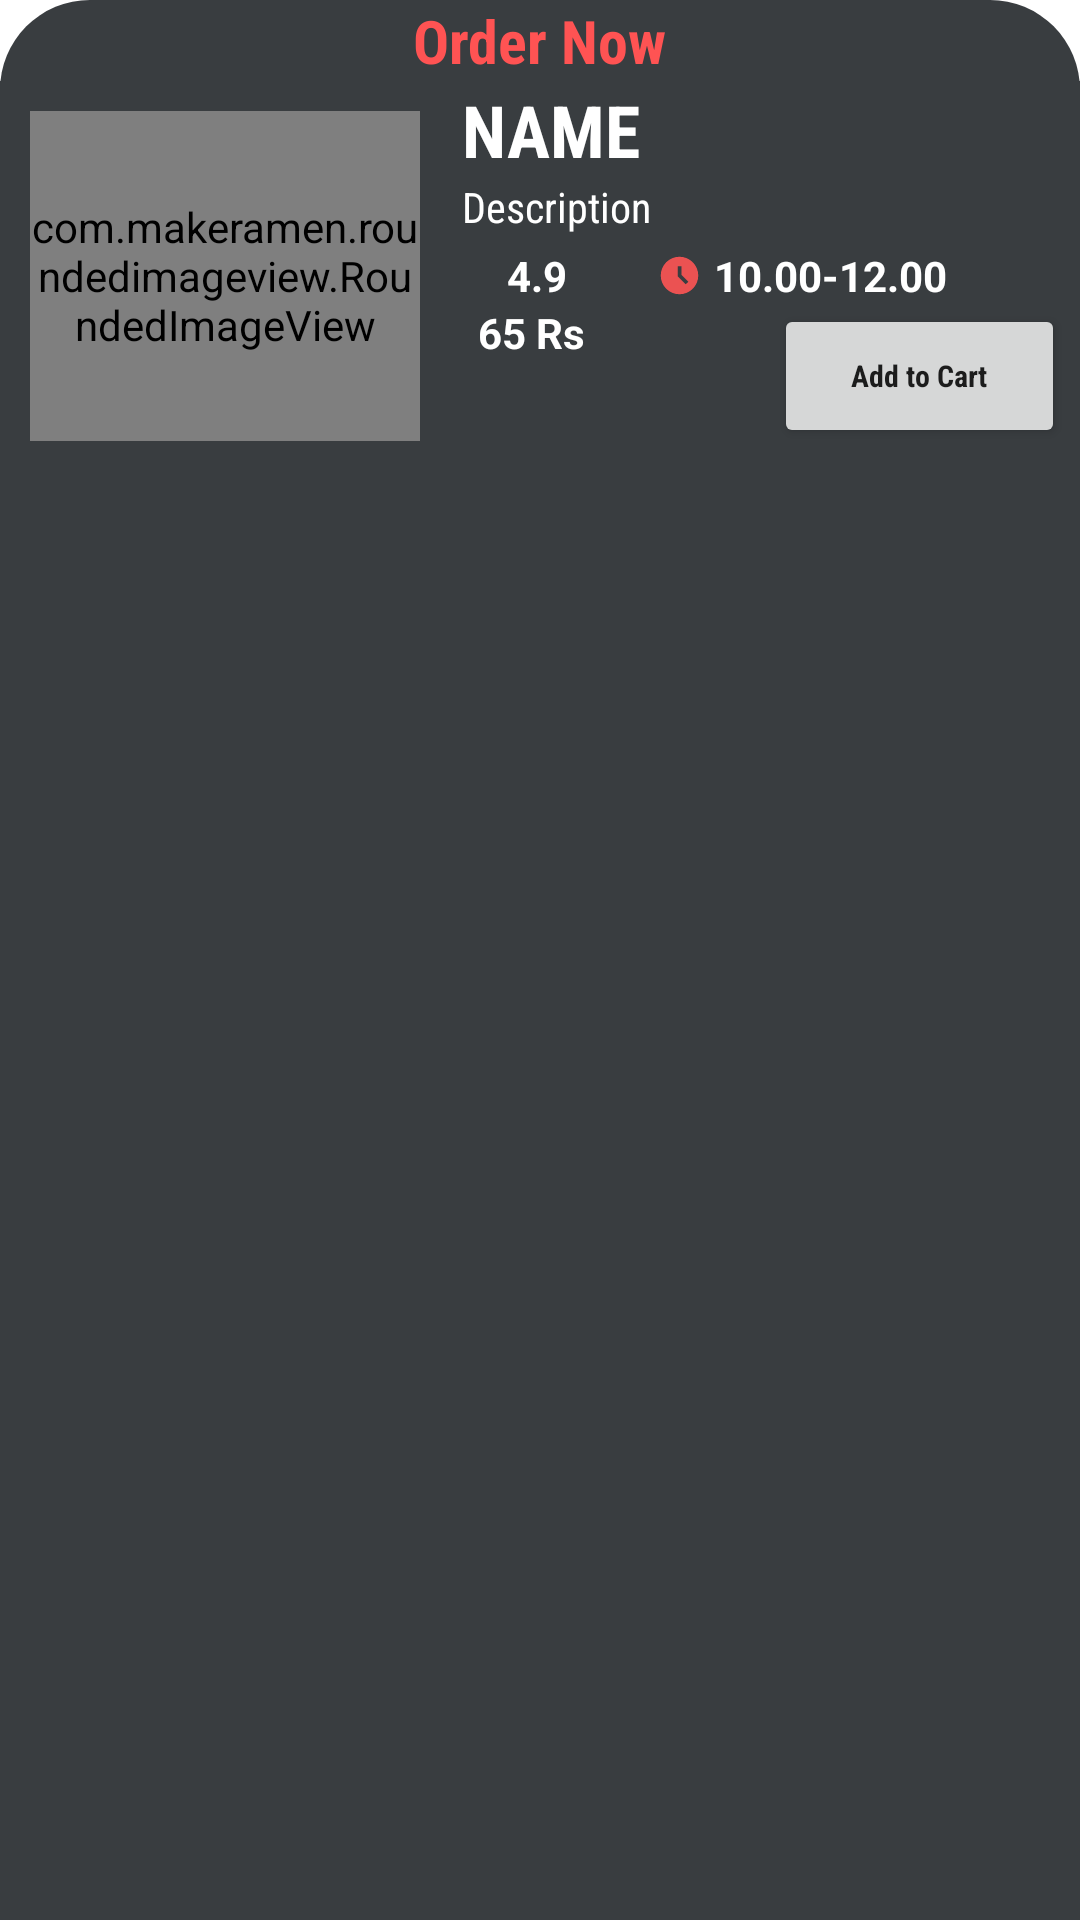

Icon click points for this 1080w x 1920h phone screenshot, format (x,y):
access time: (679,275)
